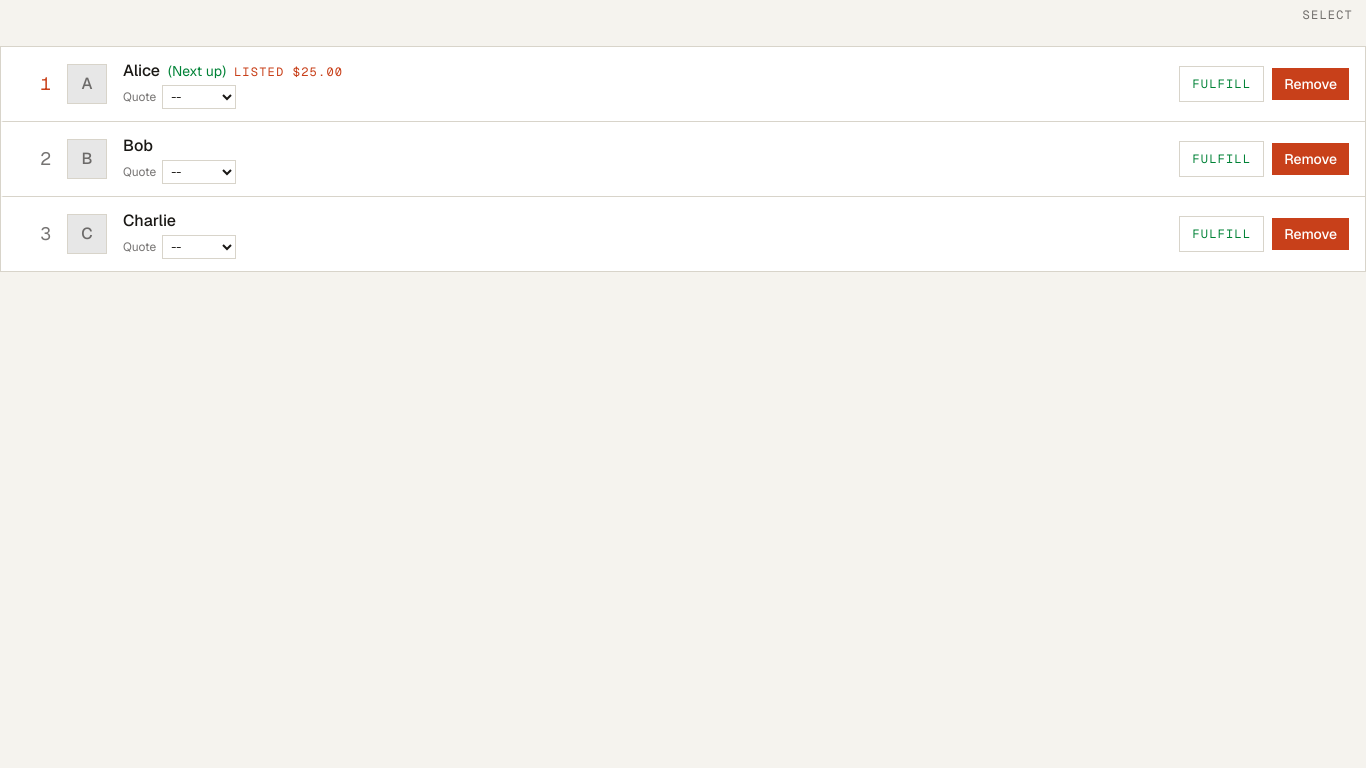
Test: QueueDisplay › Removal Modal › offers no refund when purchases were already paid out
Step 1. Click the button "Remove" in the row of "$25.00" → (1311, 84), box x1=1272 y1=68 x2=1349 y2=100
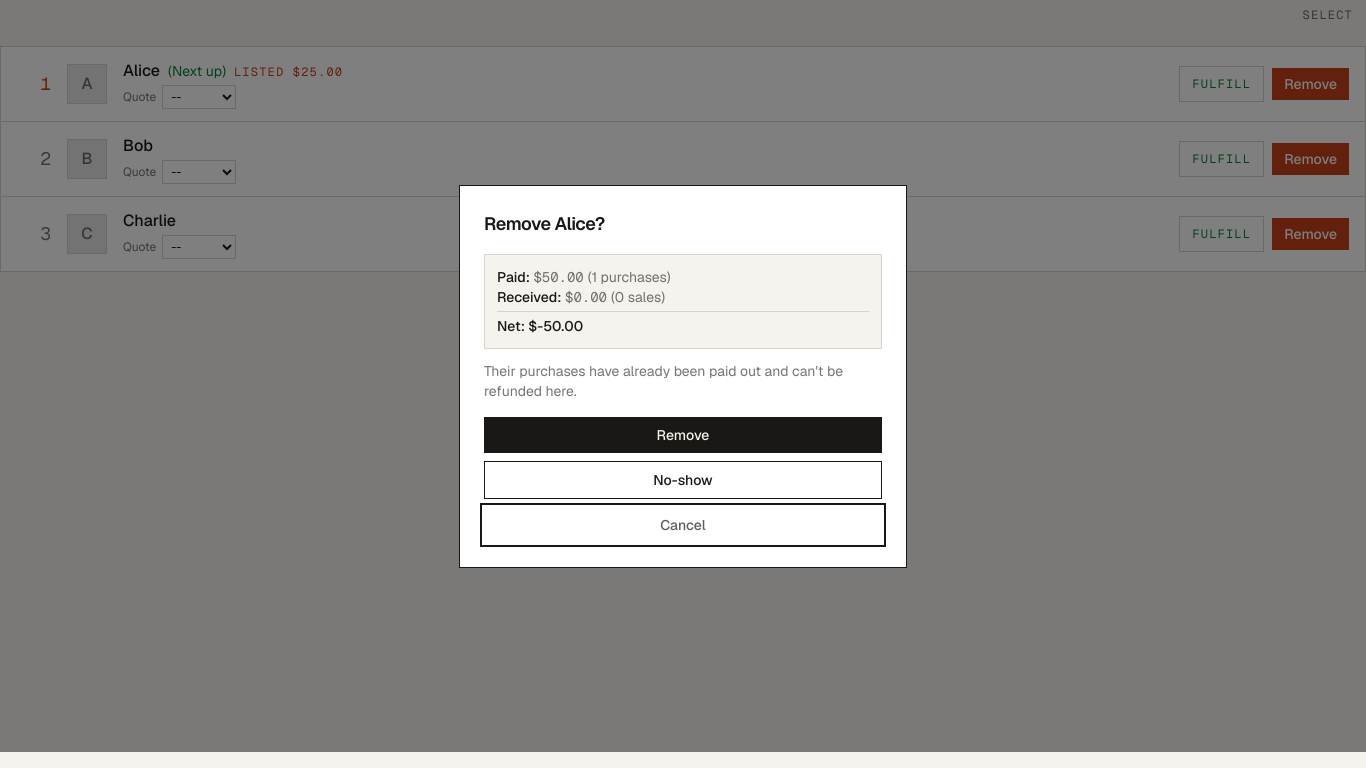
Now the text "already been paid out" is shown, box x1=484 y1=362 x2=843 y2=400
